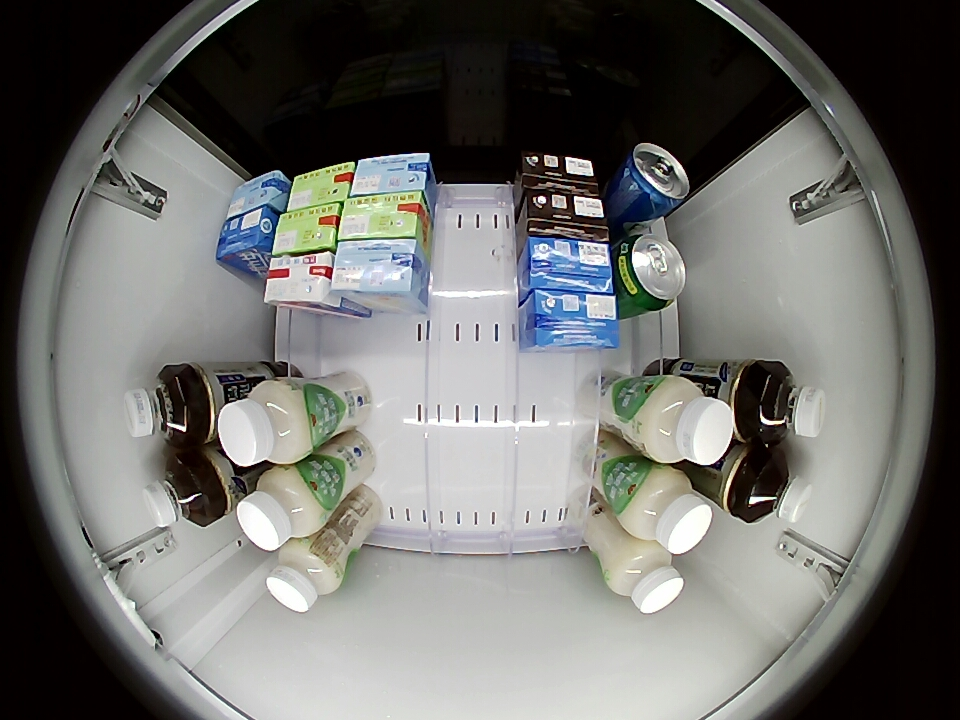niunai: (263, 251, 339, 309)
qingdaowangzi-2: (616, 142, 689, 215)
wanglaoji: (337, 191, 429, 242), (272, 203, 342, 255), (287, 162, 356, 210)
weitanai: (522, 289, 620, 351), (521, 237, 614, 295), (215, 205, 278, 269)
weitanai2: (525, 189, 608, 242), (519, 152, 599, 196)
weitanaiditang: (331, 239, 425, 303), (349, 153, 434, 199), (226, 170, 291, 217)
wulongcha: (123, 365, 199, 447), (751, 363, 827, 444), (741, 451, 814, 524), (143, 455, 214, 529)
xuebi2: (613, 233, 687, 311)
yousuanru: (635, 375, 733, 466), (617, 464, 714, 554), (219, 378, 314, 467), (236, 465, 326, 550), (600, 536, 685, 613), (266, 537, 345, 612)
